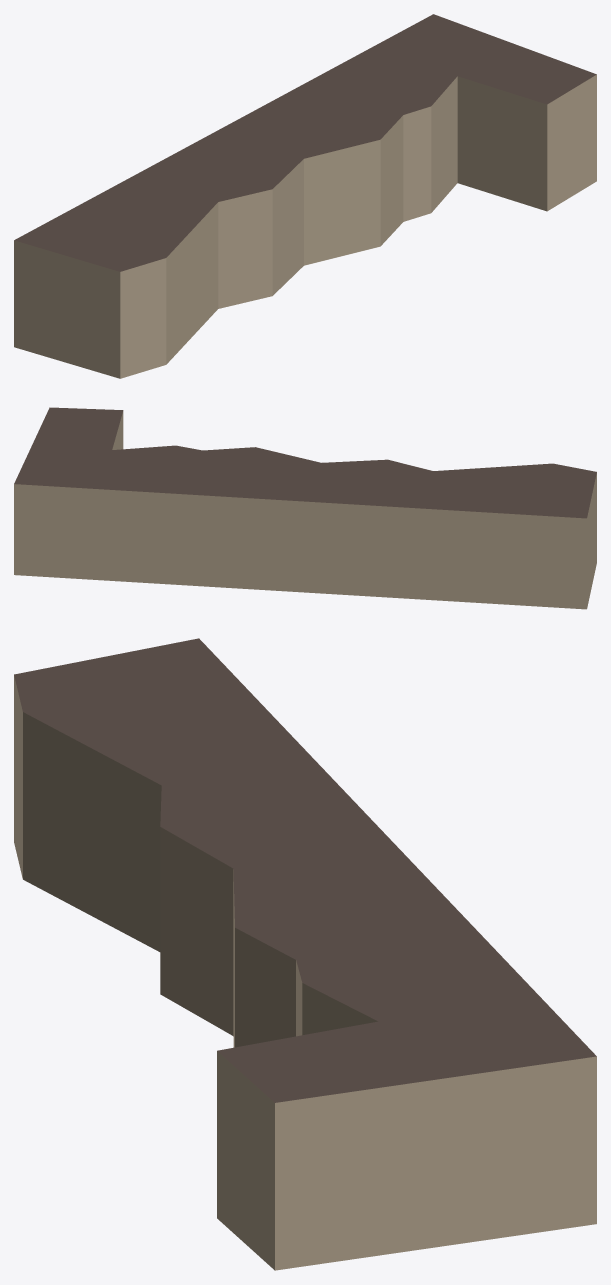
3 renders of one model, top to bottom at view 1: azimuth 30°, elevation 25°; view 2: azimuth 150°, elevation 25°; view 3: azimuth 270°, elevation 25°, orthographic. The views are drawn at different scales.
Visible parts, largest first — view 1: HP-w1512480742; view 2: HP-w1512480742; view 3: HP-w1512480742.
Part boxes in pixels (x1,y1,x2,y2): HP-w1512480742: [14, 14, 596, 378]; HP-w1512480742: [14, 407, 596, 609]; HP-w1512480742: [14, 638, 596, 1270].
Bounding box in the file's own units: 53.48 × 9 × 28.36.
